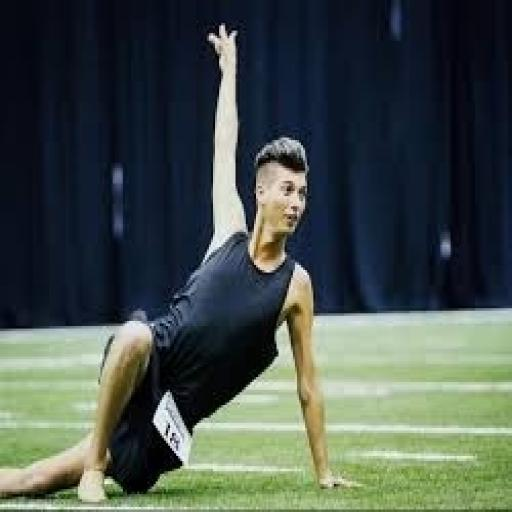dancing: (0, 18, 365, 509)
